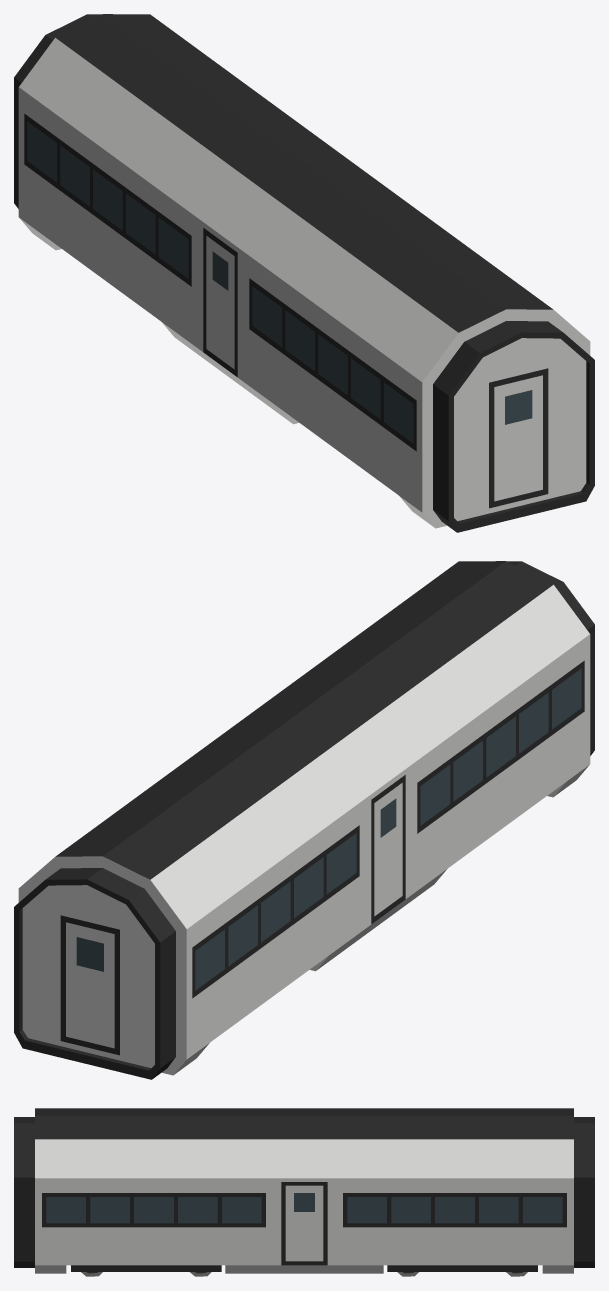
The model's file is vehicles_train-speed-wagon.fbx.
3 renders of one model, top to bottom at view 1: azimuth 30°, elevation 25°; view 2: azimuth 150°, elevation 25°; view 3: azimuth 270°, elevation 25°, orthographic. The views are drawn at different scales.
Visible parts, largest first — view 1: train_speed_wagon_base; view 2: train_speed_wagon_base; view 3: train_speed_wagon_base, train_speed_wagon_wheel_frame_B, train_speed_wagon_wheel_frame_F.
Part boxes in pixels (<box>): train_speed_wagon_base: <box>14,14,594,532</box>; train_speed_wagon_base: <box>14,561,594,1079</box>; train_speed_wagon_base: <box>14,1108,594,1273</box>; train_speed_wagon_wheel_frame_B: <box>387,1265,537,1271</box>; train_speed_wagon_wheel_frame_F: <box>71,1265,221,1271</box>.
Size of the model in its own units: 44.64 by 56.39 by 200.
